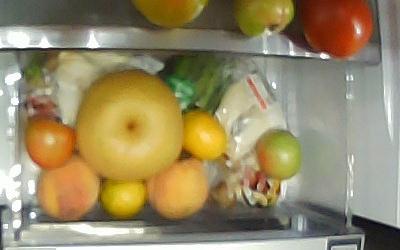peach: (37, 154, 99, 221), (145, 159, 209, 220)
pear: (75, 70, 183, 182)
tangerine: (181, 110, 228, 160), (100, 181, 145, 220)
tomato: (25, 117, 76, 169), (255, 130, 305, 181)
